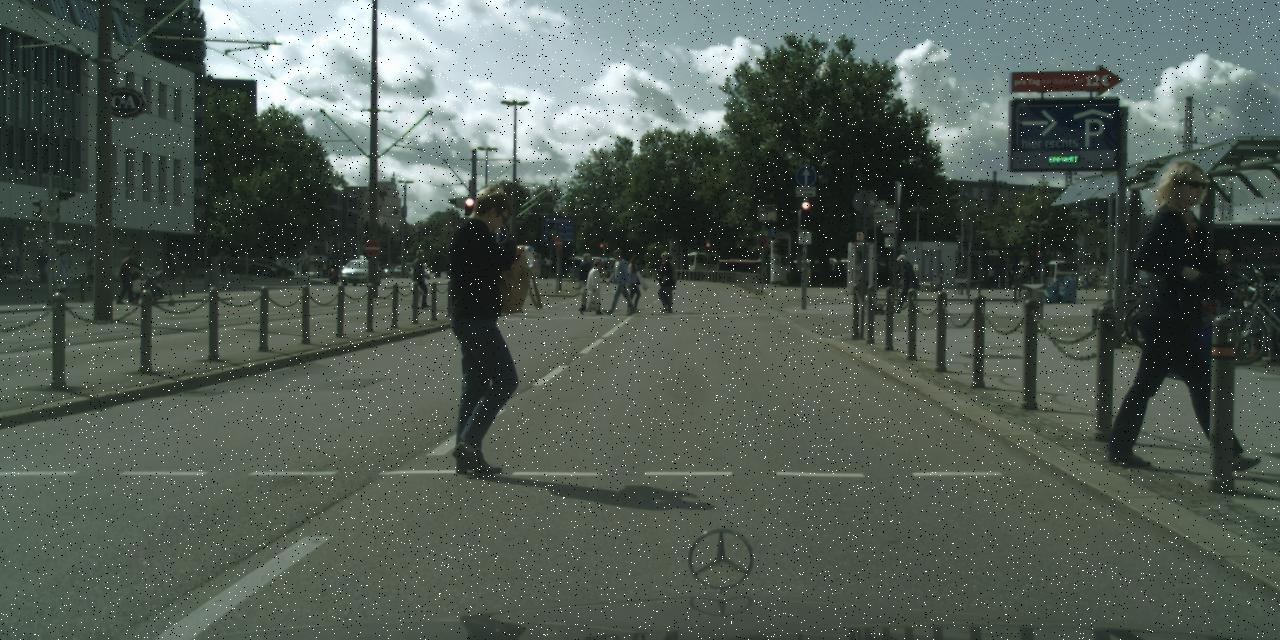ped: (1122, 160, 1247, 464), (426, 186, 542, 469), (605, 249, 631, 313), (653, 252, 678, 311), (890, 254, 914, 312), (408, 249, 432, 306), (622, 255, 645, 312), (576, 252, 598, 308), (118, 248, 140, 303), (582, 259, 604, 313), (51, 248, 72, 304), (36, 249, 50, 282), (132, 270, 144, 304), (169, 251, 179, 277), (218, 256, 228, 279), (86, 257, 95, 281), (1090, 266, 1099, 288), (985, 266, 994, 288), (330, 259, 338, 279), (322, 260, 328, 278), (301, 260, 306, 276)
